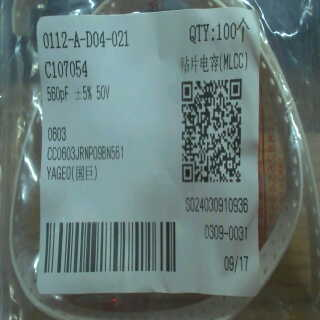560pF: (44, 81, 72, 106)
